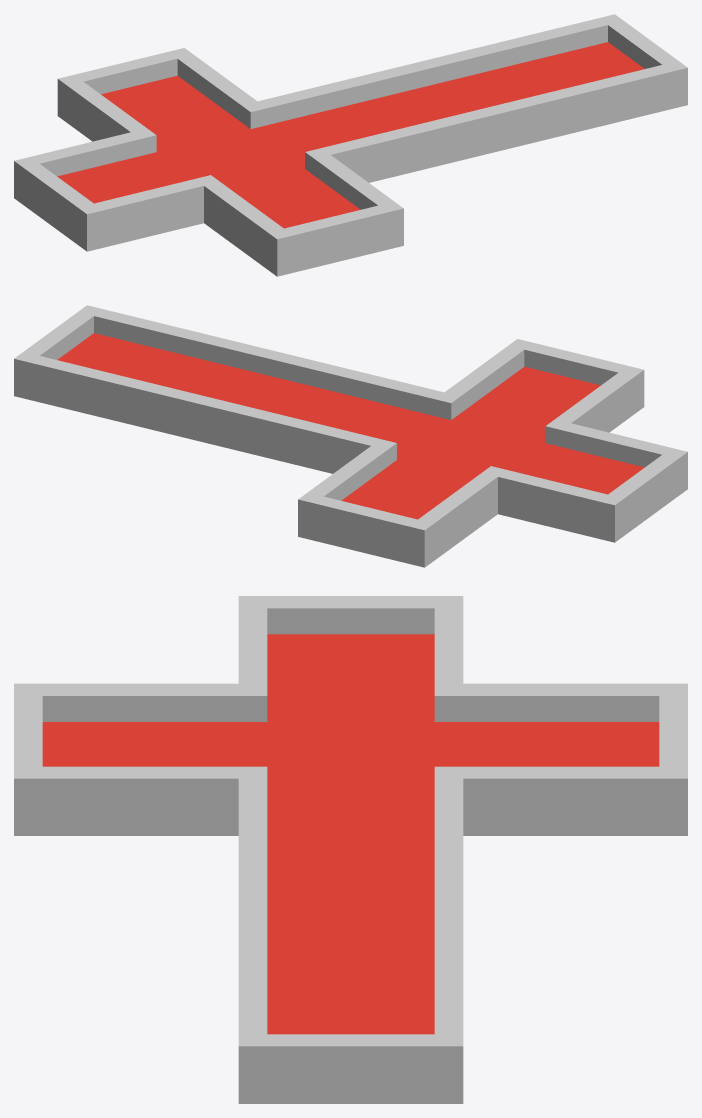
Rendered from cross.glb.
The picture shows the model from 3 angles, top to bottom: view 1: azimuth 30°, elevation 25°; view 2: azimuth 150°, elevation 25°; view 3: azimuth 270°, elevation 25°; orthographic projection. The views are drawn at different scales.
Visible parts, largest first — view 1: group2143144424; view 2: group2143144424; view 3: group2143144424.
Boxes of the visible parts, x1,y1,x2,y2 form: group2143144424: (14, 14, 687, 276); group2143144424: (14, 305, 687, 567); group2143144424: (14, 596, 687, 1103).
Size of the model in its own units: 1.85 by 0.11 by 1.17.
